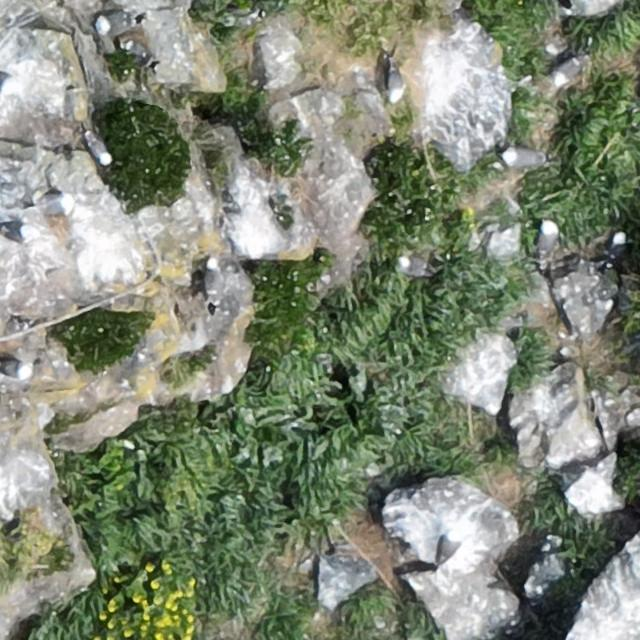umineko: (438, 526, 463, 570), (502, 149, 542, 168), (552, 58, 581, 84), (87, 134, 109, 164), (99, 14, 132, 33), (204, 260, 220, 299), (388, 68, 405, 104), (539, 222, 557, 254), (398, 257, 426, 276), (609, 232, 627, 260), (124, 42, 150, 61), (36, 193, 66, 209), (1, 361, 28, 378), (1, 224, 26, 242)
